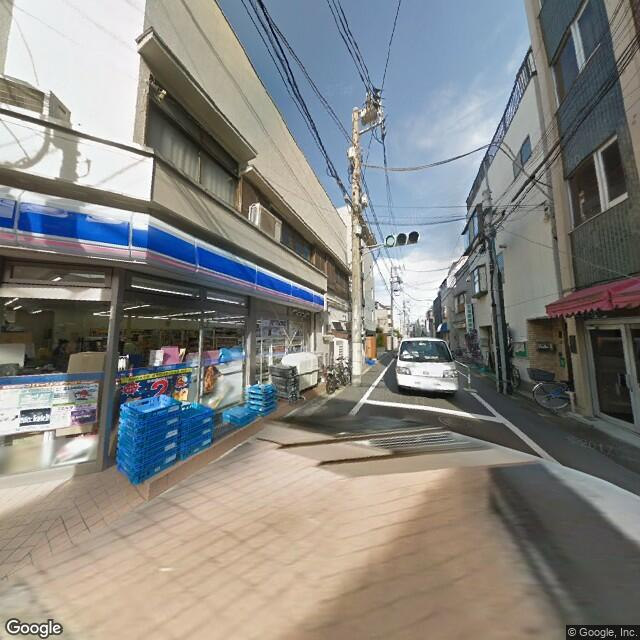lawson: (1, 183, 327, 317)
